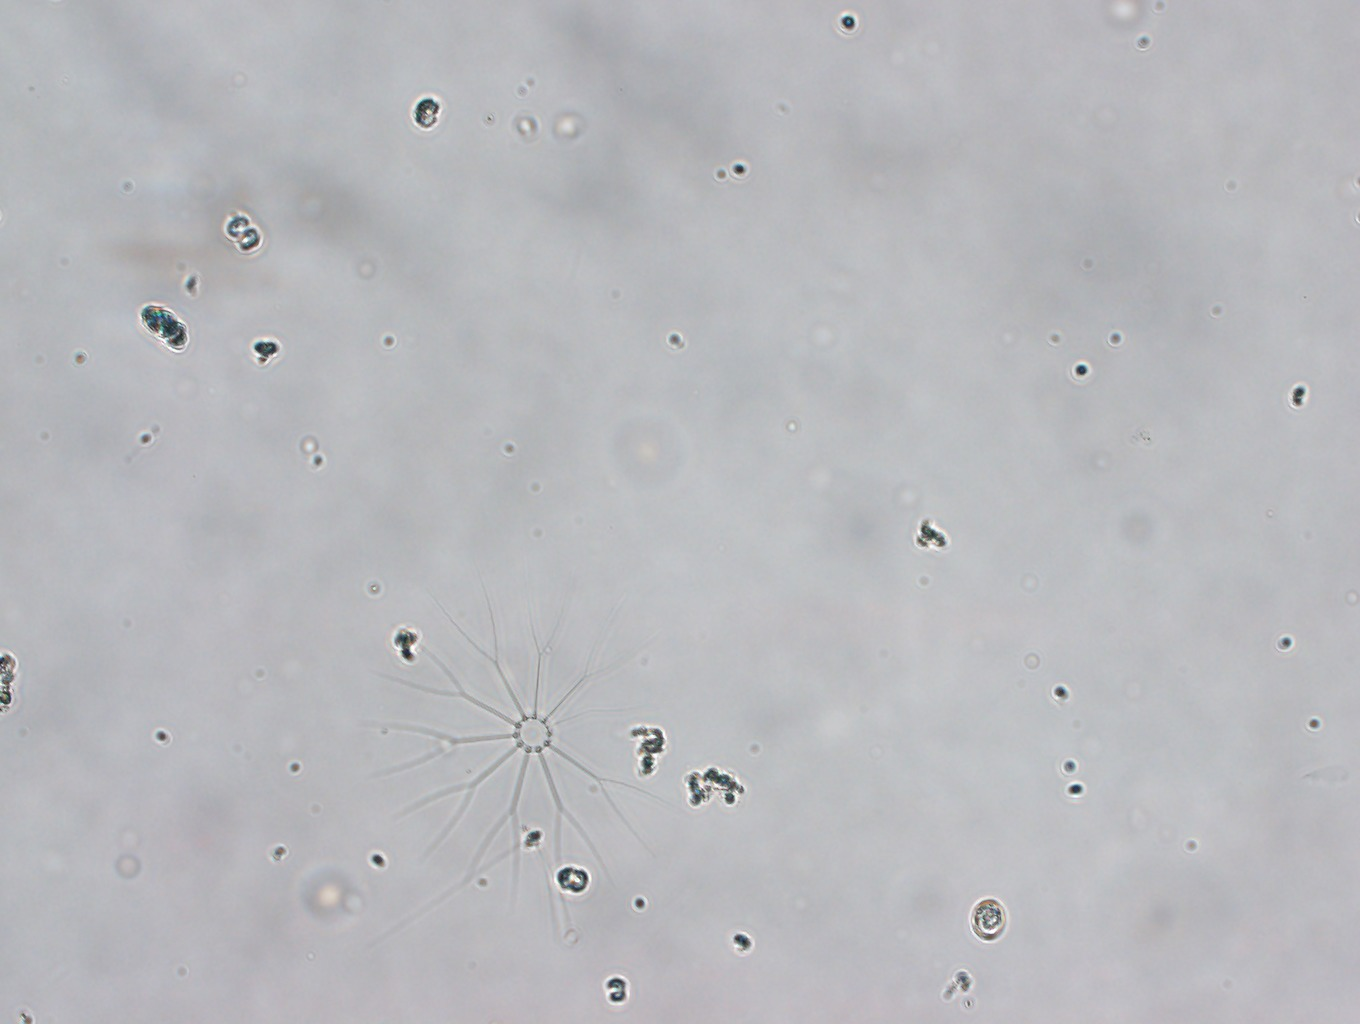bacteriastrum: (350, 577, 687, 940)
